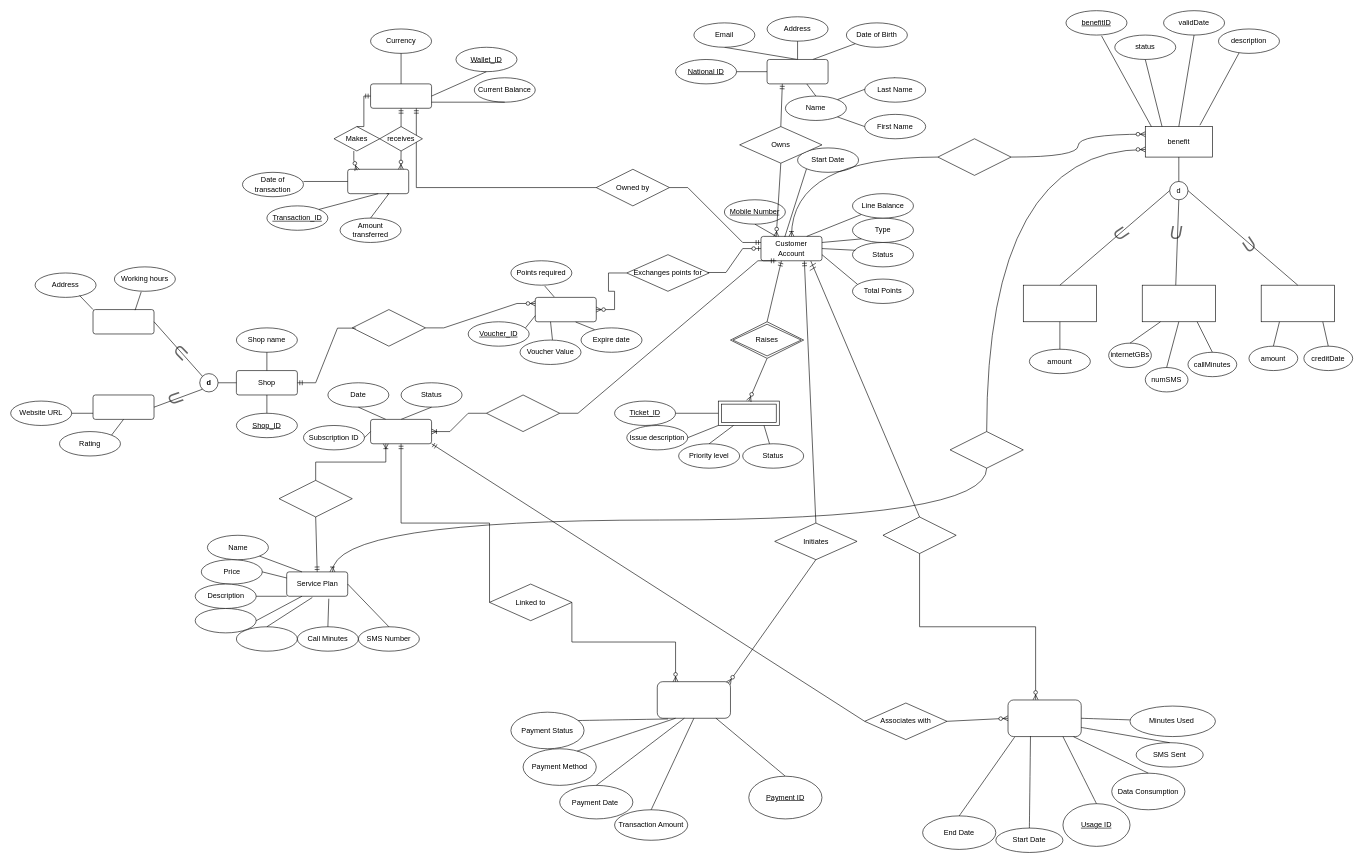
This 1363x863 diagram has some shape labels left out. Here are the shapes that lost their labels. From the top down, the box of each, then its label:
(766, 59, 828, 84): Customer Prof ile
(370, 83, 432, 108): Wallet
(937, 138, 1011, 175): entitled
(347, 169, 409, 194): Transaction
(92, 309, 154, 334): Physical Shop
(535, 297, 596, 322): Voucher
(1023, 285, 1096, 322): points
(1142, 285, 1215, 322): offer
(1261, 285, 1334, 322): cashback
(352, 309, 425, 346): Redeemed at
(92, 394, 154, 419): E-Shop
(486, 394, 560, 432): Subscribes
(718, 400, 779, 425): Technical support ticket
(370, 419, 432, 444): Subscription Plan
(949, 431, 1023, 468): provides
(278, 480, 352, 517): Has
(882, 516, 956, 554): Track
(195, 608, 256, 633): Plan_ID
(236, 626, 297, 651): Internet GB Size
(657, 681, 730, 718): Payment
(1007, 699, 1081, 737): Plan Usage
